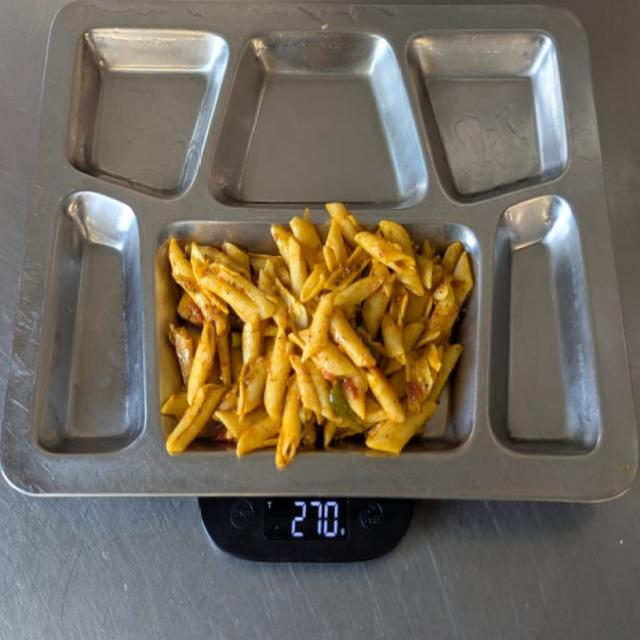Pasta: (159, 200, 478, 464)
